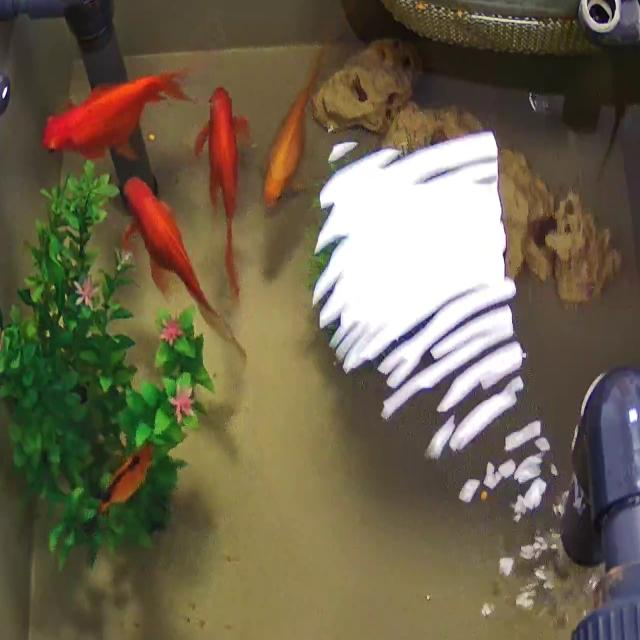fish: (117, 174, 242, 343), (42, 68, 198, 166), (196, 85, 253, 297), (265, 48, 318, 210), (95, 440, 157, 517)
